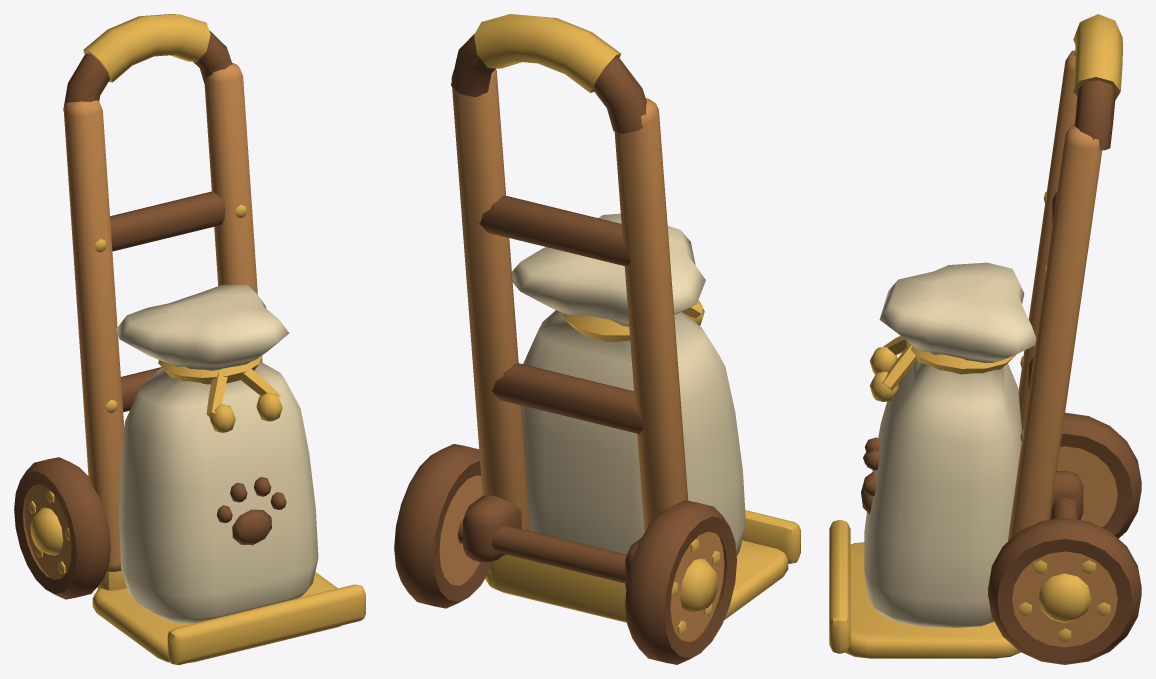
Rendered from ShopHandTruck.fbx.
3 renders of one model, left to right at view 1: azimuth 30°, elevation 25°; view 2: azimuth 150°, elevation 25°; view 3: azimuth 270°, elevation 25°, orthographic. The views are drawn at different scales.
Visible parts, largest first — view 1: ShopHandTruck; view 2: ShopHandTruck; view 3: ShopHandTruck.
Part boxes in pixels (x1,y1,x2,y2): ShopHandTruck: (14, 14, 365, 664); ShopHandTruck: (394, 14, 800, 664); ShopHandTruck: (829, 14, 1141, 664).
Bounding box in the file's own units: 0.594 × 1.21 × 0.59.
